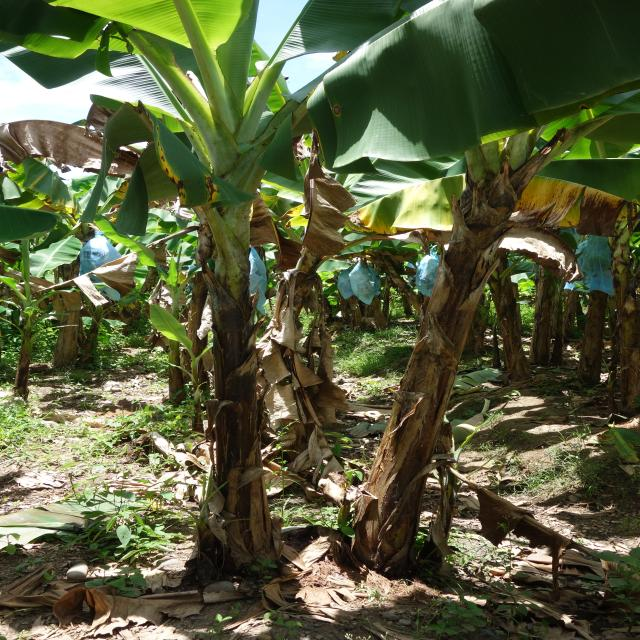Banana-plant: (336, 117, 586, 559), (169, 84, 299, 590)
